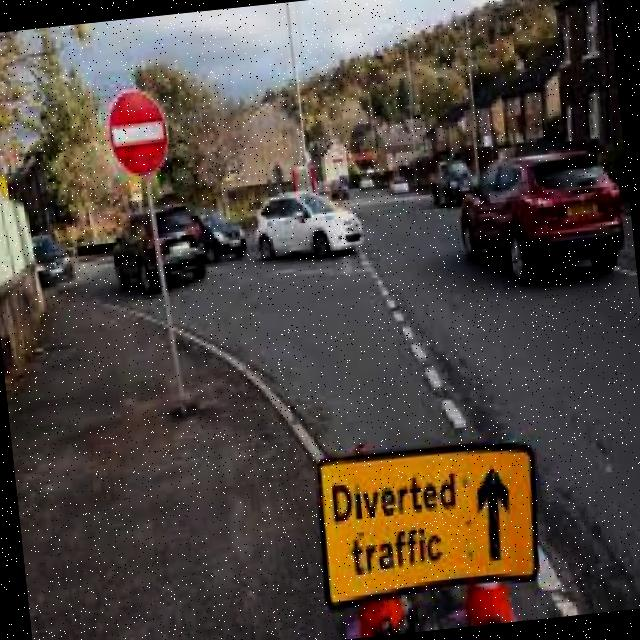Zakaz wjazdu: (102, 81, 174, 182)
